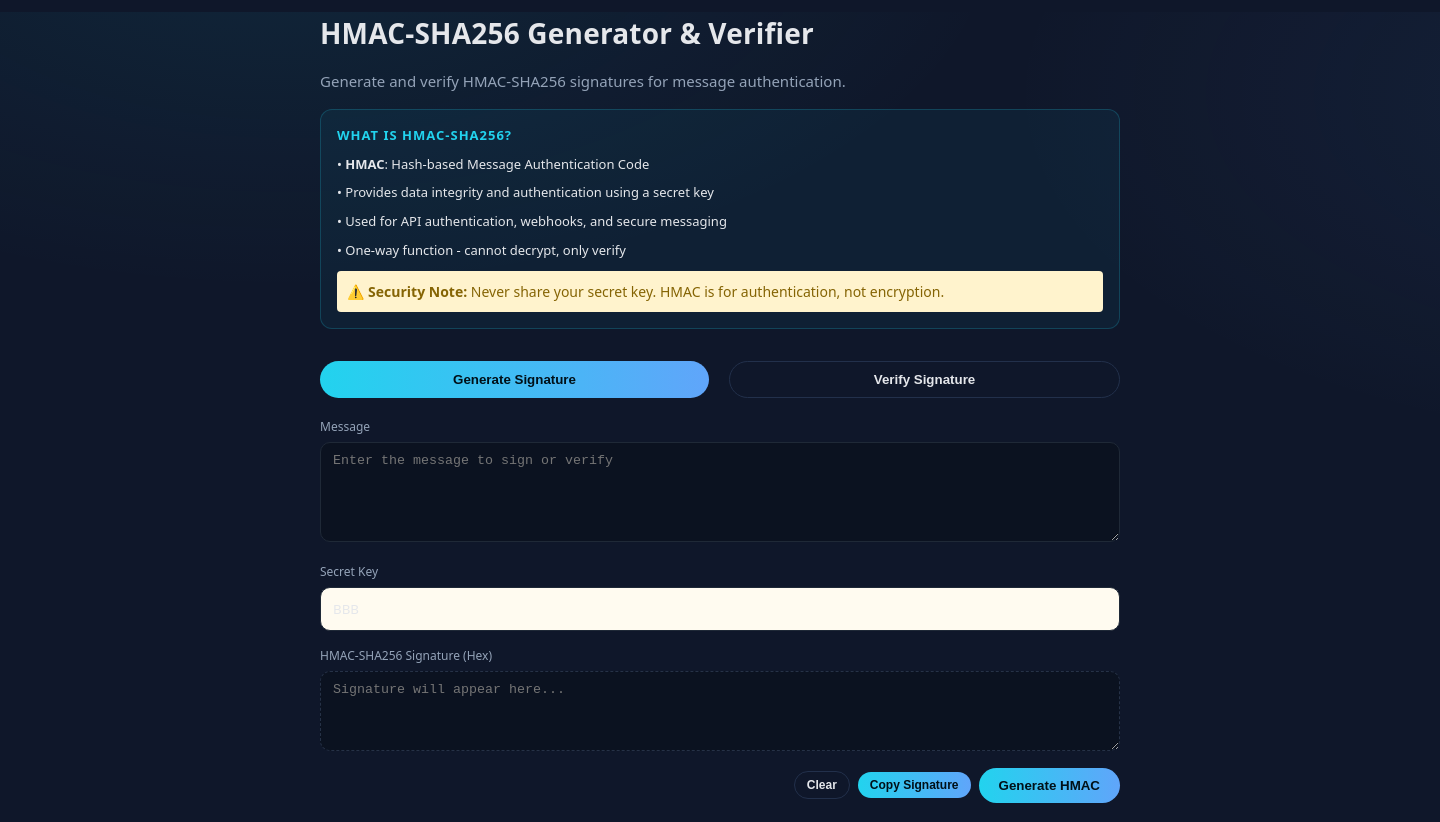
Scenario: HmacSha256Tool › clears all inputs
Step 1. Type "Clear me" into the text box labelled "Message" → (720, 492), box [320,442,1120,542]
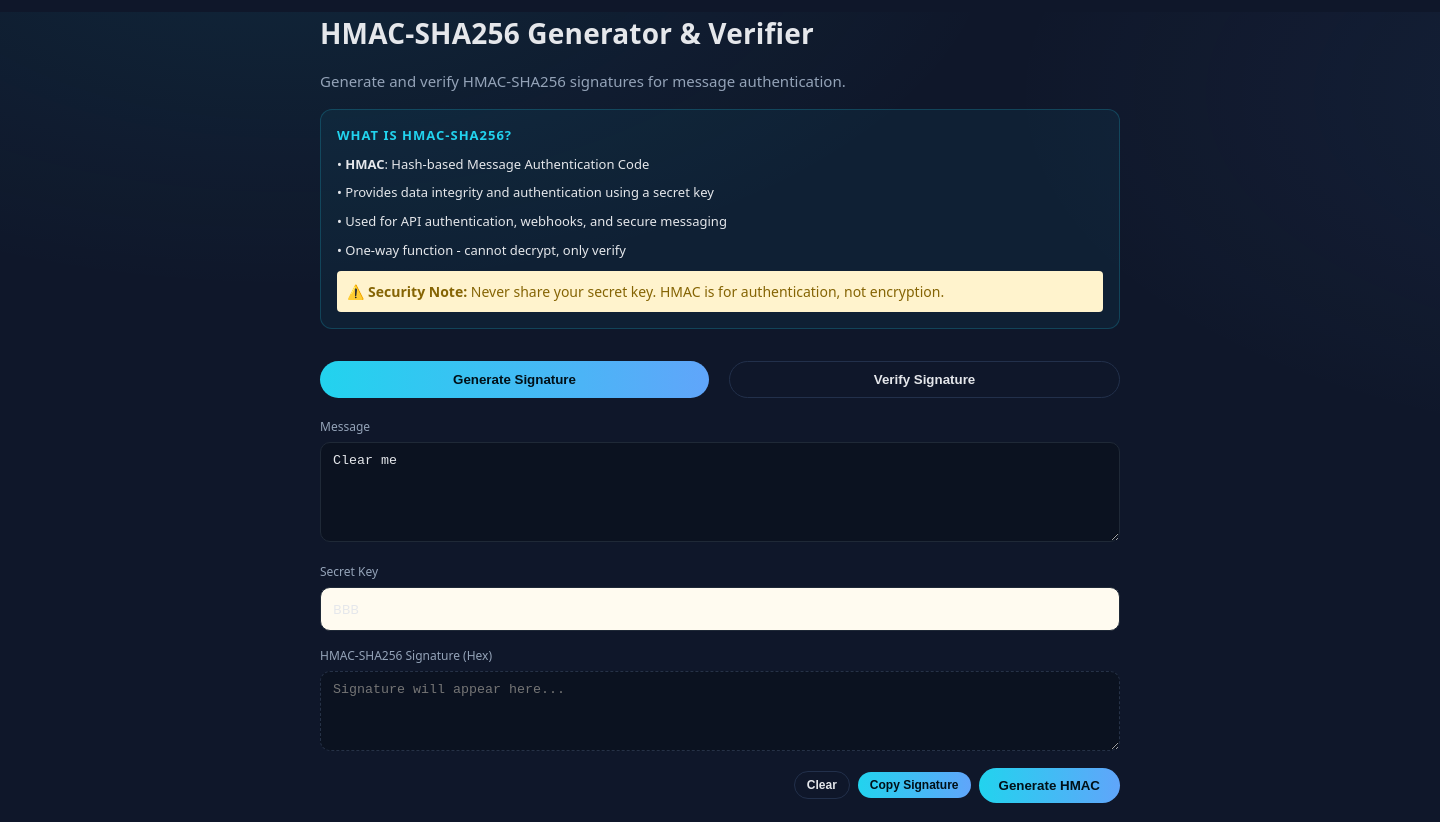
Step 2. Replace the text in the field labelled "Secret Key" with "CustomKey" → (720, 609), box [320,587,1120,631]
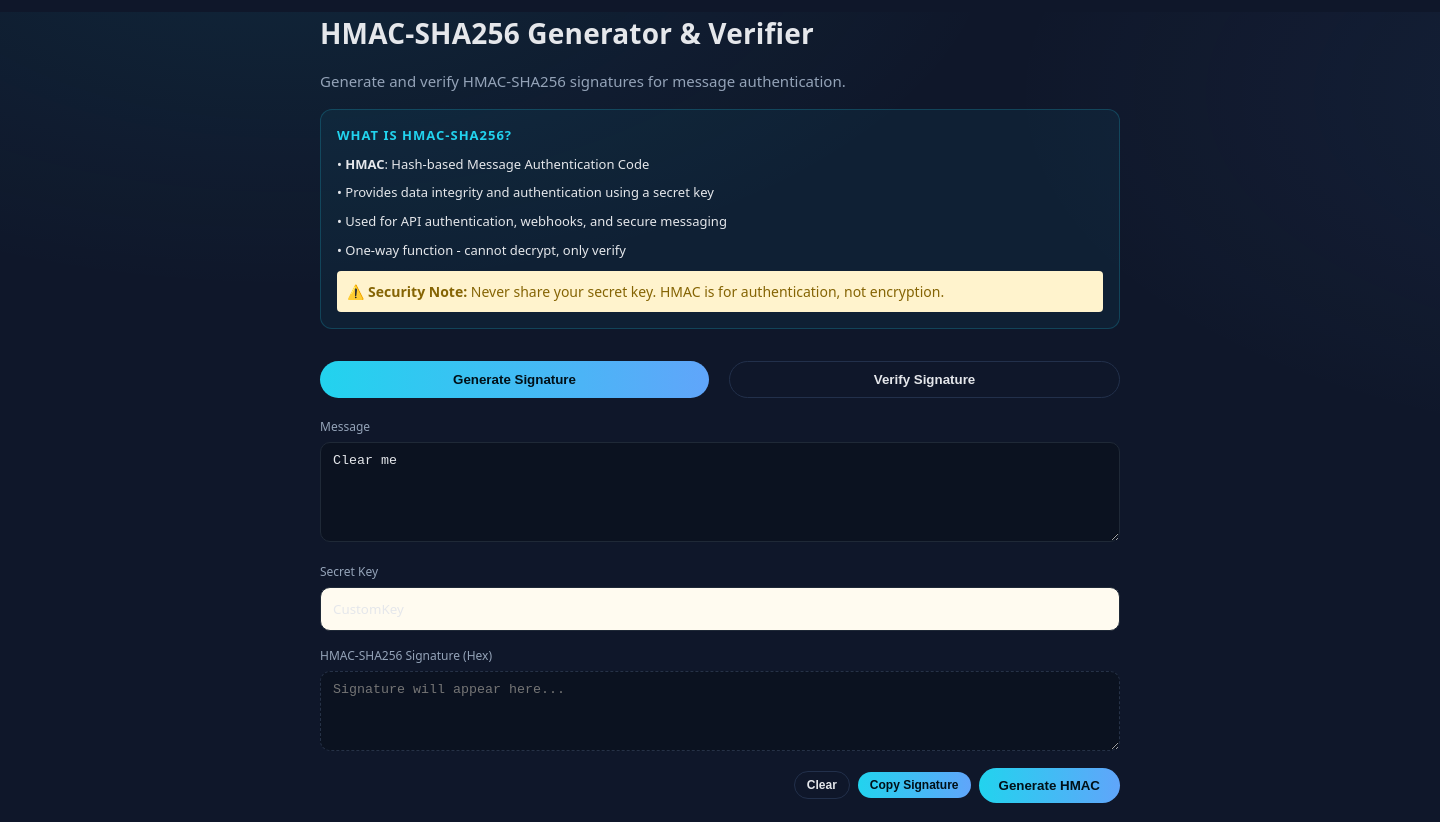
Step 3. Click the button "Clear" → (822, 785), box [794,771,850,799]
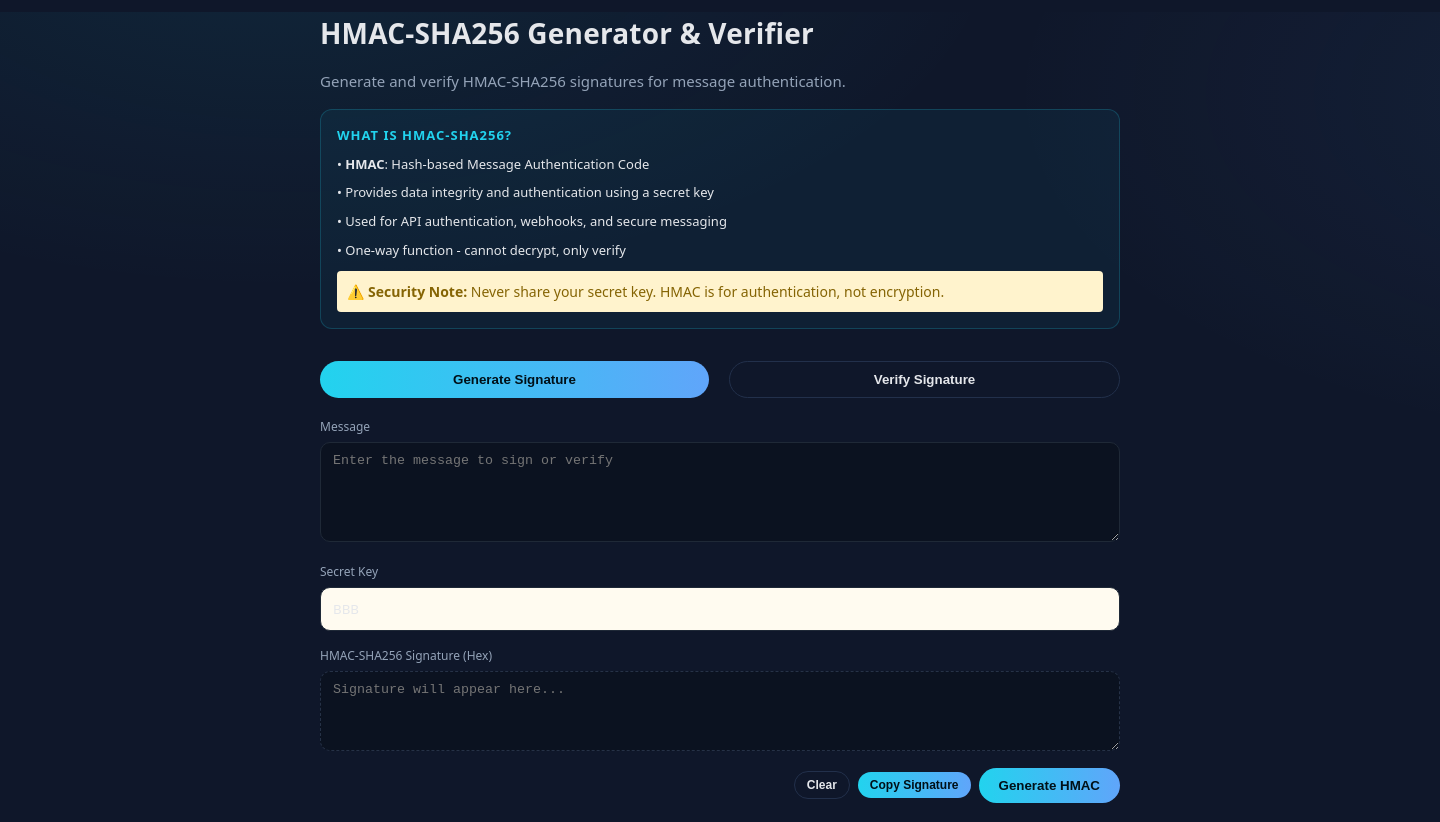
Now the text box labelled "Message" is empty, box [320,442,1120,542]
Now the field labelled "Secret Key" holds "BBB", box [320,587,1120,631]
